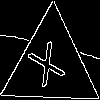X: (26, 40, 72, 97)
